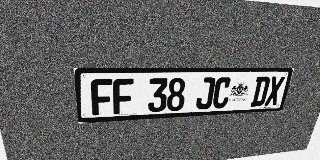3: (148, 78, 168, 112)
8: (166, 78, 187, 111)
C: (211, 77, 232, 109)
D: (250, 77, 271, 107)
F: (90, 79, 113, 116), (113, 78, 133, 114)
J: (195, 77, 216, 110)
X: (264, 76, 285, 106)
